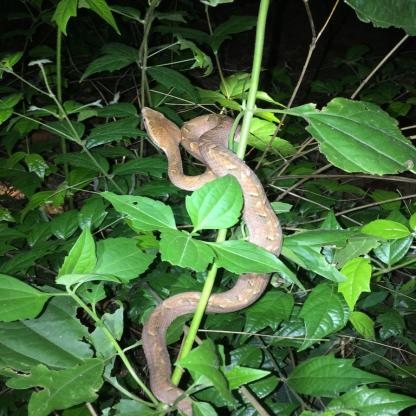Snake: (136, 106, 282, 228)
